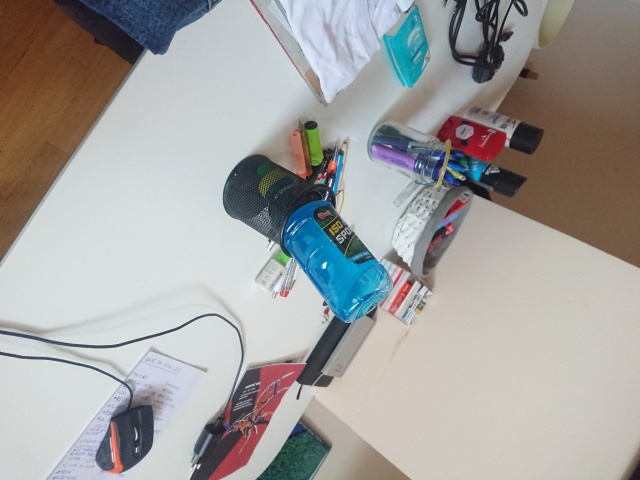Vindi Iso Sport Forest Strawberries 500mL: (254, 161, 395, 324)
